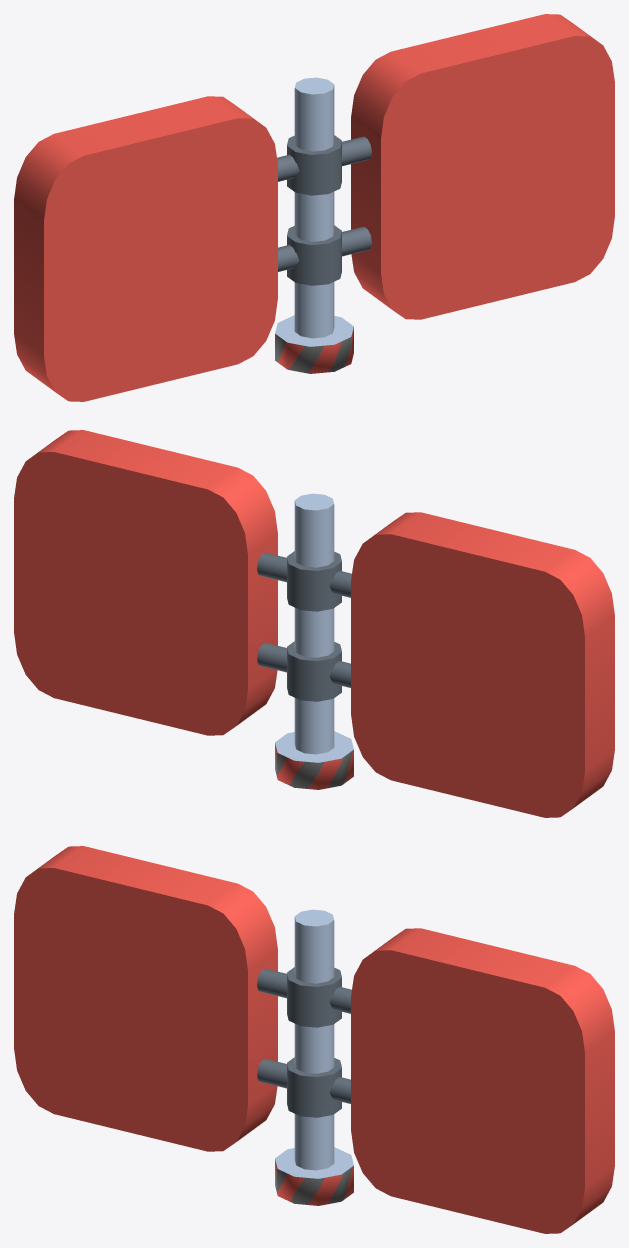
File: RotationWall02.fbx
The picture shows the model from 3 angles, top to bottom: view 1: azimuth 30°, elevation 25°; view 2: azimuth 150°, elevation 25°; view 3: azimuth 330°, elevation 25°; orthographic projection.
Visible parts, largest first — view 1: RotationWall, Rotation_Wall_Base; view 2: RotationWall, Rotation_Wall_Base; view 3: RotationWall, Rotation_Wall_Base.
Boxes of the visible parts, <box> form: RotationWall: <box>14,14,614,401</box>; Rotation_Wall_Base: <box>275,77,353,373</box>; RotationWall: <box>14,430,614,817</box>; Rotation_Wall_Base: <box>275,493,353,789</box>; RotationWall: <box>14,846,614,1233</box>; Rotation_Wall_Base: <box>275,909,353,1205</box>.
Bounding box in the file's own units: 441 × 201 × 54.
